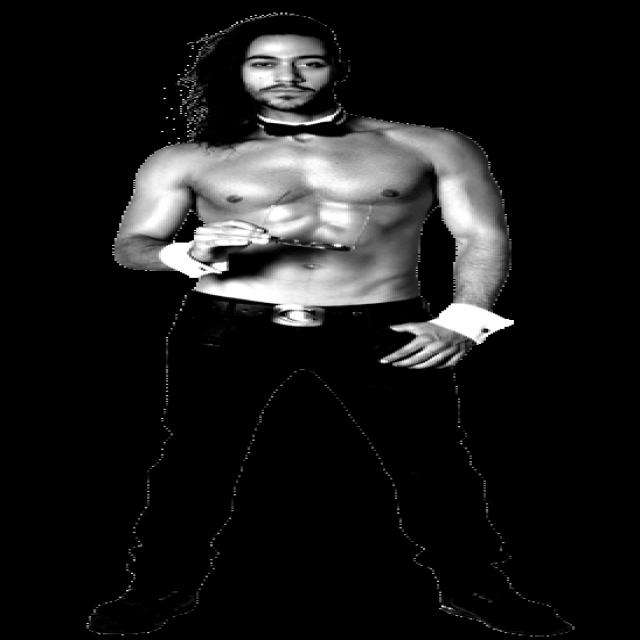human: (93, 11, 587, 640)
